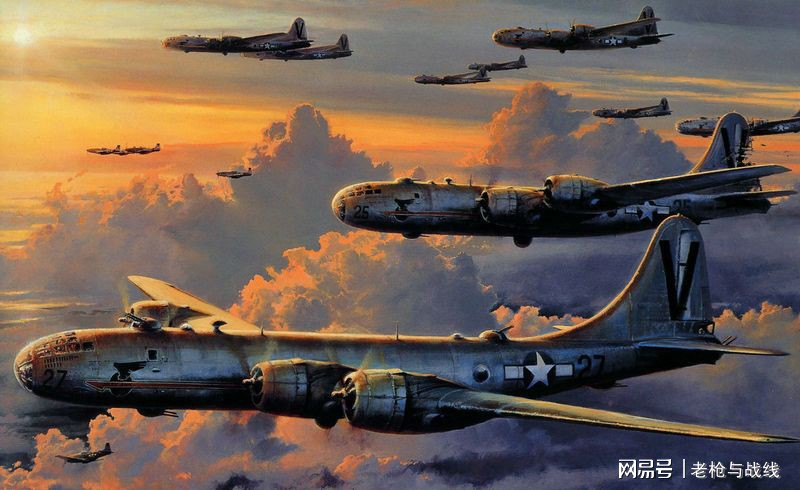airplane: (11, 214, 797, 450), (325, 120, 792, 240), (489, 4, 673, 54), (153, 10, 311, 53), (671, 104, 800, 140), (262, 36, 363, 64), (592, 94, 674, 120), (403, 66, 494, 87), (467, 52, 528, 71)
